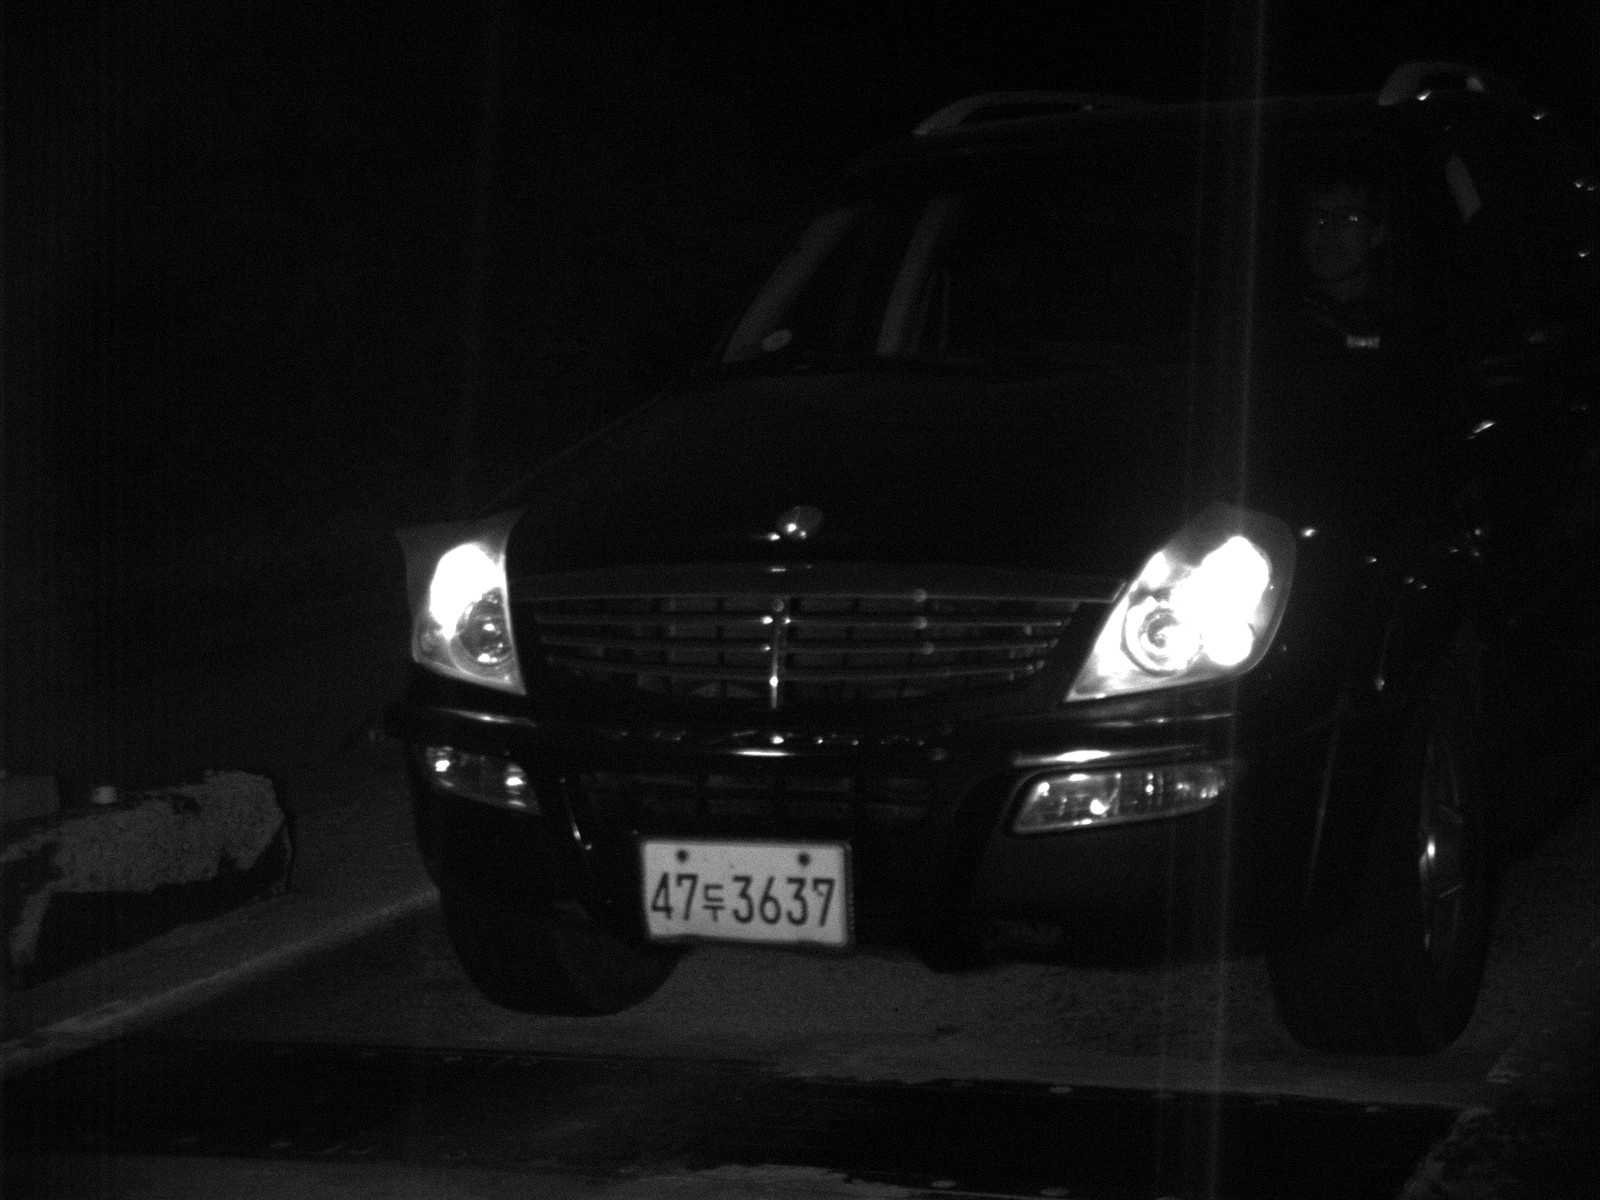car: (379, 30, 1594, 1057)
plate: (640, 837, 849, 948)
